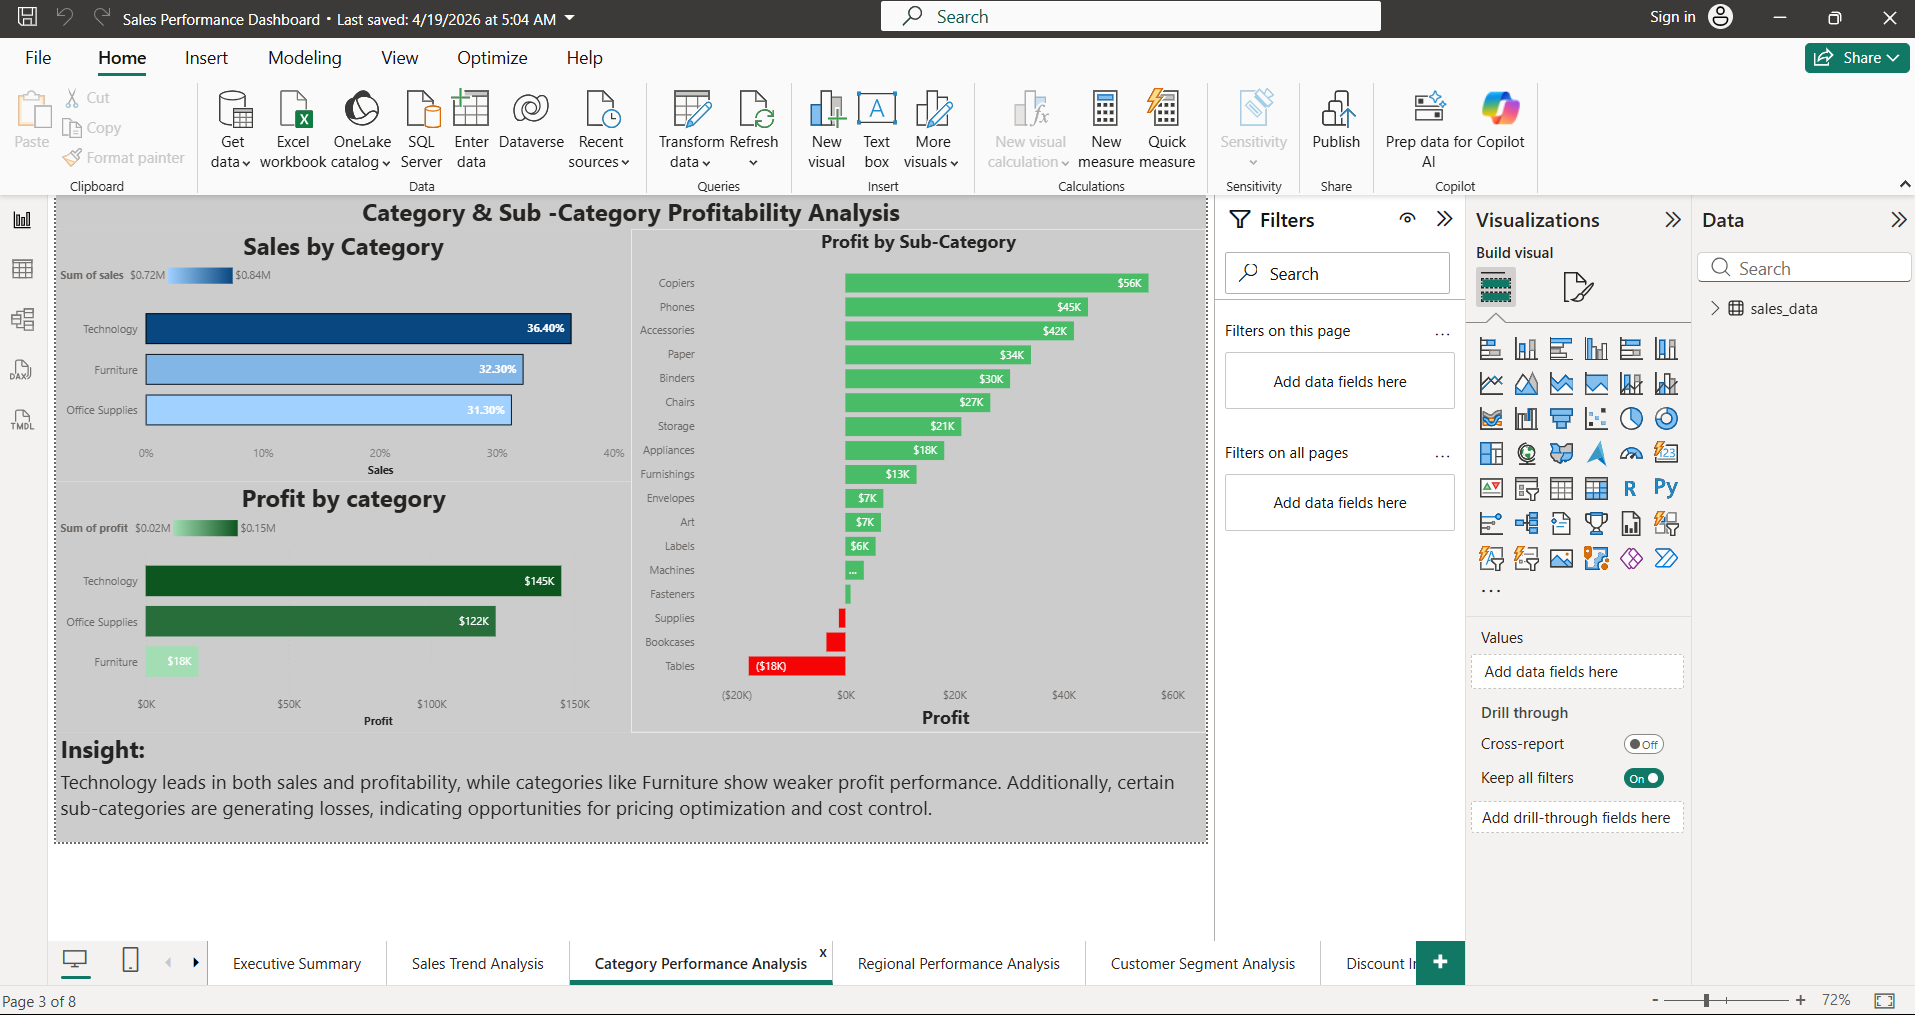

The dashboard page shown, as its layout file describes it:
{"tool":"powerbi","page":{"name":"Category Performance Analysis","canvas":[1280,720],"ordinal":2},"visuals":[{"type":"barChart","title":"Sales by Category","fields":{"Category":["sales_data.category"],"Y":["Sum(sales_data.sales)"]},"box":[0,37.6,640,281],"z":0},{"type":"textbox","title":"Insight:","box":[0,598.3,1280.3,122.1],"z":1000},{"type":"clusteredBarChart","title":"Profit by category","fields":{"Y":["Sum(sales_data.profit)"],"Category":["sales_data.category"]},"box":[0,318.6,640,279.7],"z":2000},{"type":"clusteredBarChart","title":"Profit by Sub-Category","fields":{"Category":["sales_data.sub_category"],"Y":["Sum(sales_data.profit)"]},"box":[640,37.6,640,560.7],"z":3000},{"type":"textbox","title":"Category & Sub -Category Profitability Analysis","box":[0,0,1280,37.6],"z":4000}]}

Visuals, with their boxes on the page's 1280x720 design canvas (x1, y1, x2, y2). These are canvas units, not pixel positions in the 1915x1015 screenshot, which may show the page scaled, cropped or inside an application window:
"Sales by Category" barChart: {"left": 0, "top": 38, "right": 640, "bottom": 319}
"Insight:" textbox: {"left": 0, "top": 598, "right": 1280, "bottom": 720}
"Profit by category" clusteredBarChart: {"left": 0, "top": 319, "right": 640, "bottom": 598}
"Profit by Sub-Category" clusteredBarChart: {"left": 640, "top": 38, "right": 1280, "bottom": 598}
"Category & Sub -Category Profitability Analysis" textbox: {"left": 0, "top": 0, "right": 1280, "bottom": 38}
